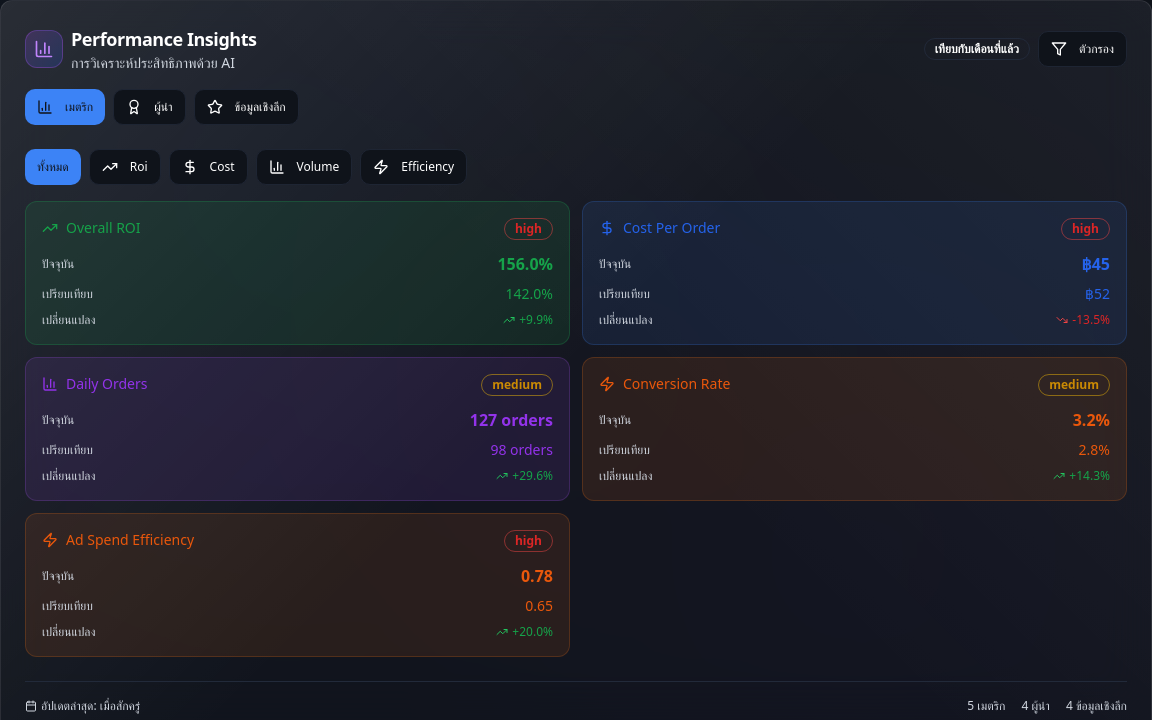
Test: PerformanceInsights › switches to insights tab correctly
Click the button "ข้อมูลเชิงลึก" at (246, 107), box top-left (194, 89), bottom-right (299, 125)
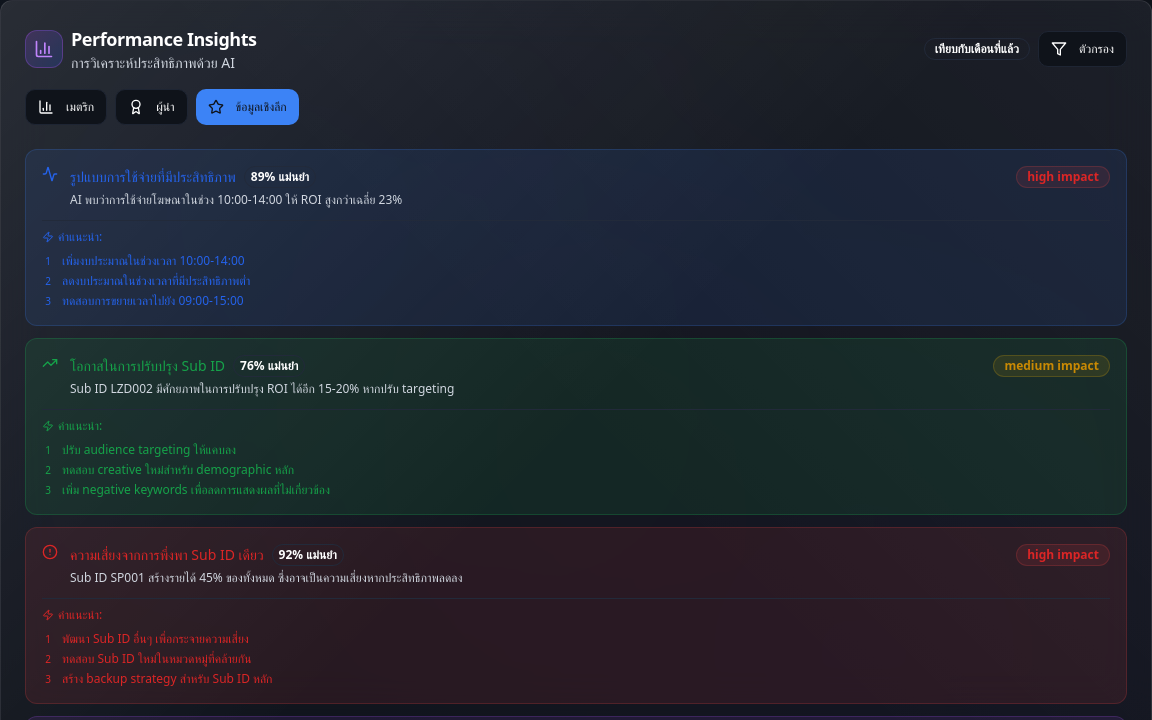
Expected: the heading "รูปแบบการใช้จ่ายที่มีประสิทธิภาพ" is shown, top-left (70, 167), bottom-right (236, 187)
Expected: the heading "โอกาสในการปรับปรุง Sub ID" is shown, top-left (70, 356), bottom-right (225, 376)
